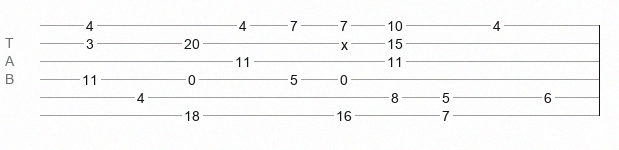0: (188, 72, 196, 82), (340, 72, 348, 82)
10: (387, 18, 403, 28)
11: (82, 72, 98, 82), (235, 54, 251, 64), (387, 54, 403, 64)
15: (387, 36, 403, 46)
16: (336, 108, 352, 118)
18: (184, 108, 200, 118)
20: (184, 36, 200, 46)
3: (86, 36, 94, 46)
4: (86, 18, 94, 28), (137, 90, 145, 100), (239, 18, 247, 28), (493, 18, 501, 28)
5: (290, 72, 298, 82), (442, 90, 450, 100)
6: (544, 90, 552, 100)
7: (290, 18, 298, 28), (340, 18, 348, 28), (442, 108, 450, 118)
8: (391, 90, 399, 100)
x: (341, 37, 348, 45)
